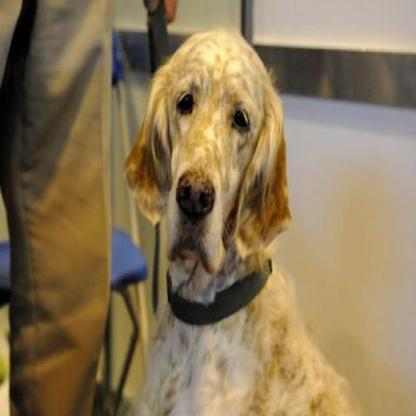English_setter: (121, 23, 359, 413)
